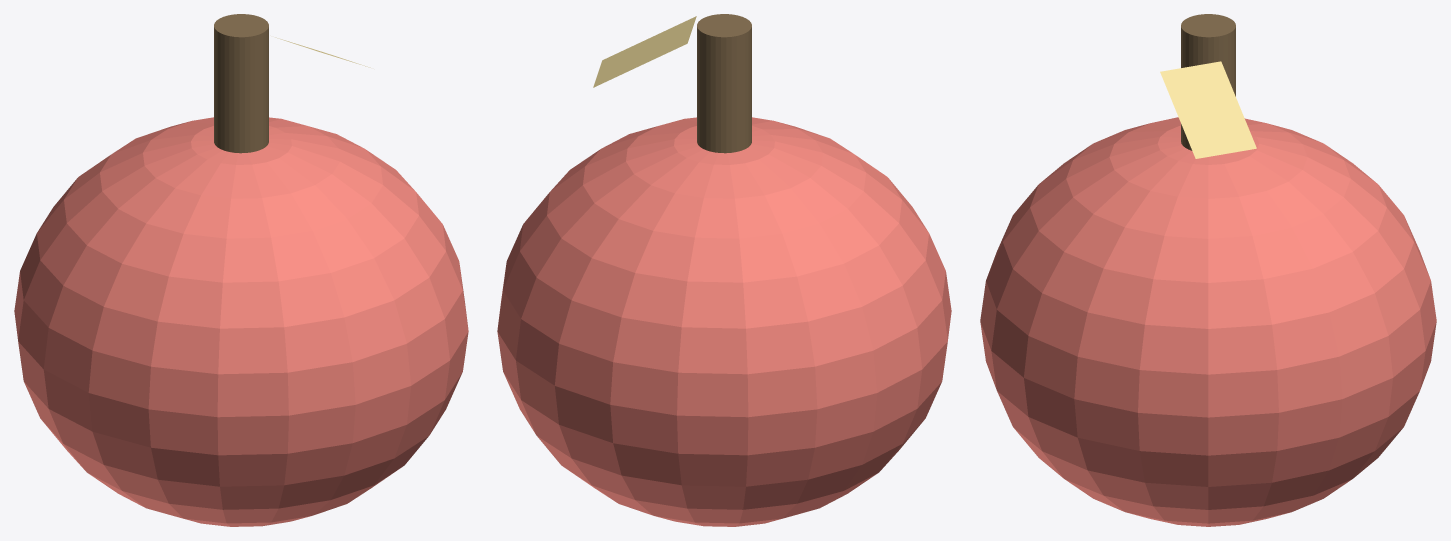
Rendered from pickup.apple.v2.glb.
3 views of the same model, side by side, from view 1: azimuth 30°, elevation 25°; view 2: azimuth 150°, elevation 25°; view 3: azimuth 270°, elevation 25° (orthographic).
Parts seen in each view (by area): view 1: pickup.apple.v2_body, pickup.apple.v2_stem; view 2: pickup.apple.v2_body, pickup.apple.v2_stem, Plane; view 3: pickup.apple.v2_body, Plane, pickup.apple.v2_stem.
Boxes of the visible parts, bbox=[...] form: pickup.apple.v2_body: bbox=[14, 117, 468, 526]; pickup.apple.v2_stem: bbox=[214, 14, 268, 153]; pickup.apple.v2_body: bbox=[497, 117, 951, 526]; pickup.apple.v2_stem: bbox=[697, 14, 751, 153]; Plane: bbox=[593, 16, 696, 87]; pickup.apple.v2_body: bbox=[980, 117, 1436, 526]; Plane: bbox=[1160, 61, 1256, 158]; pickup.apple.v2_stem: bbox=[1181, 14, 1235, 150].
Size of the model in its own units: 0.4972 by 0.5737 by 0.4972.
